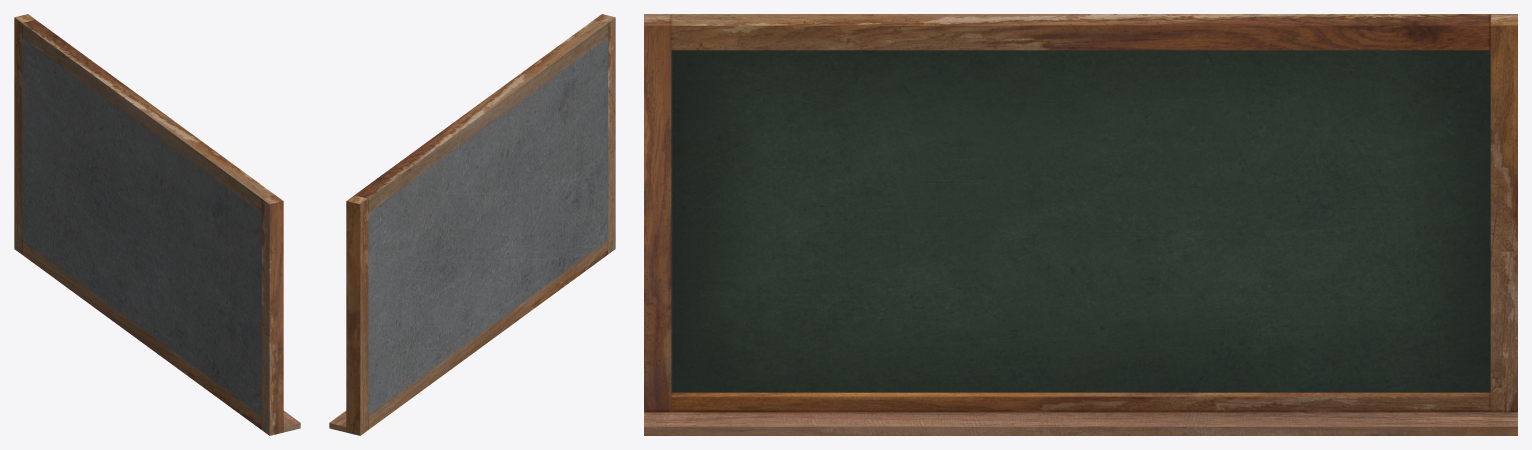
Rendered from blackboard.glb.
The picture shows the model from 3 angles, left to right: view 1: azimuth 30°, elevation 25°; view 2: azimuth 150°, elevation 25°; view 3: azimuth 270°, elevation 25°; orthographic projection. The views are drawn at different scales.
Parts seen in each view (by area): view 1: Blackboard_lp.000; view 2: Blackboard_lp.000; view 3: Blackboard_lp.000.
Boxes of the visible parts, box(x1,y1,x2,y2) form: Blackboard_lp.000: box(14, 14, 300, 435); Blackboard_lp.000: box(329, 14, 615, 435); Blackboard_lp.000: box(644, 14, 1517, 435).
Size of the model in its own units: 18 by 128 by 256.
2 materials, 2 textured.
